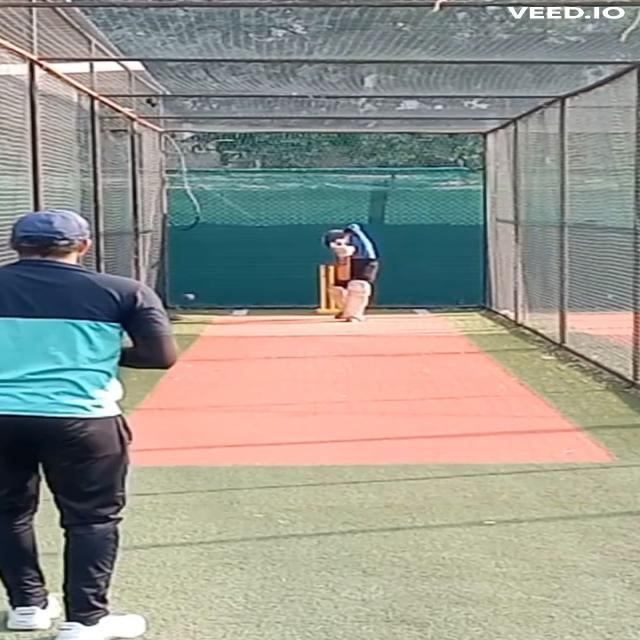ball: (182, 292, 196, 302)
stump: (314, 264, 340, 314)
